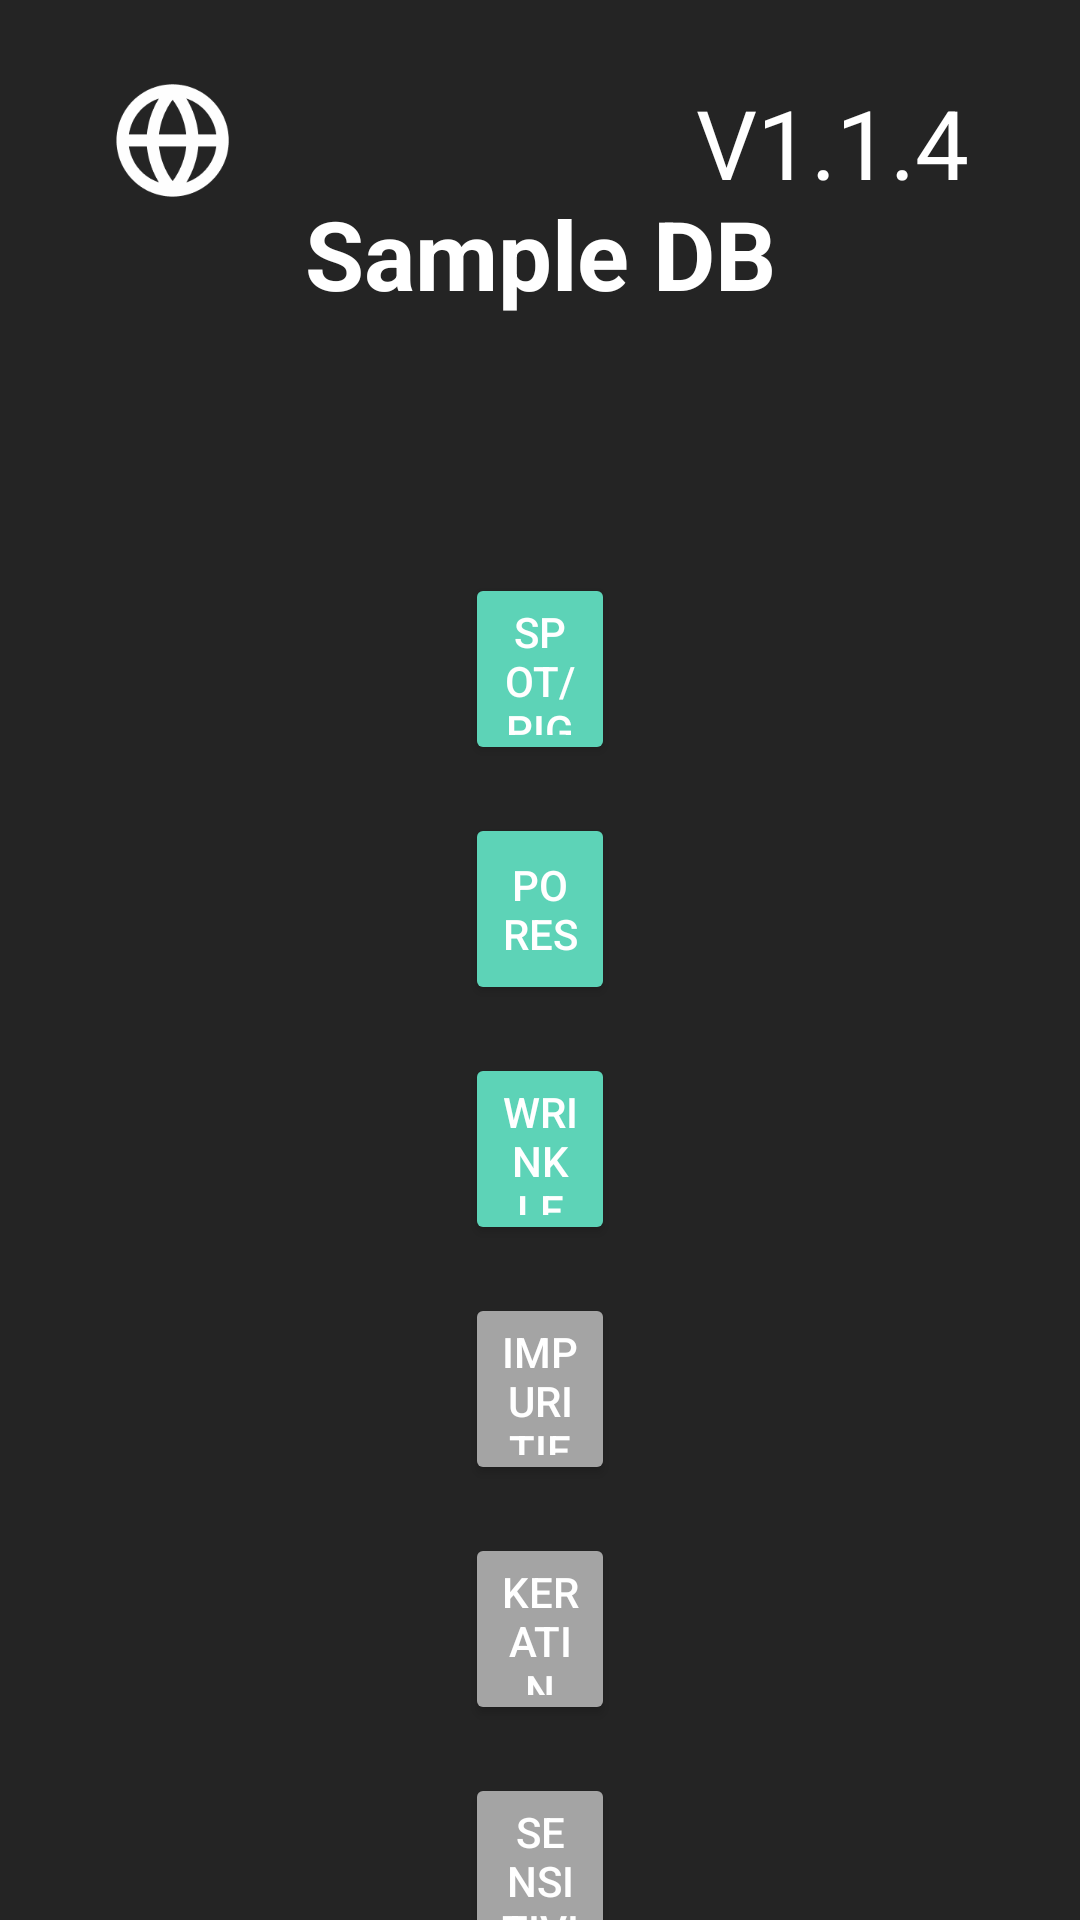

Named icons in this screenshot (1080w x 1920h) and their bounding boxes, (x1, y1, x2, y2):
globe: (116, 84, 229, 197)
